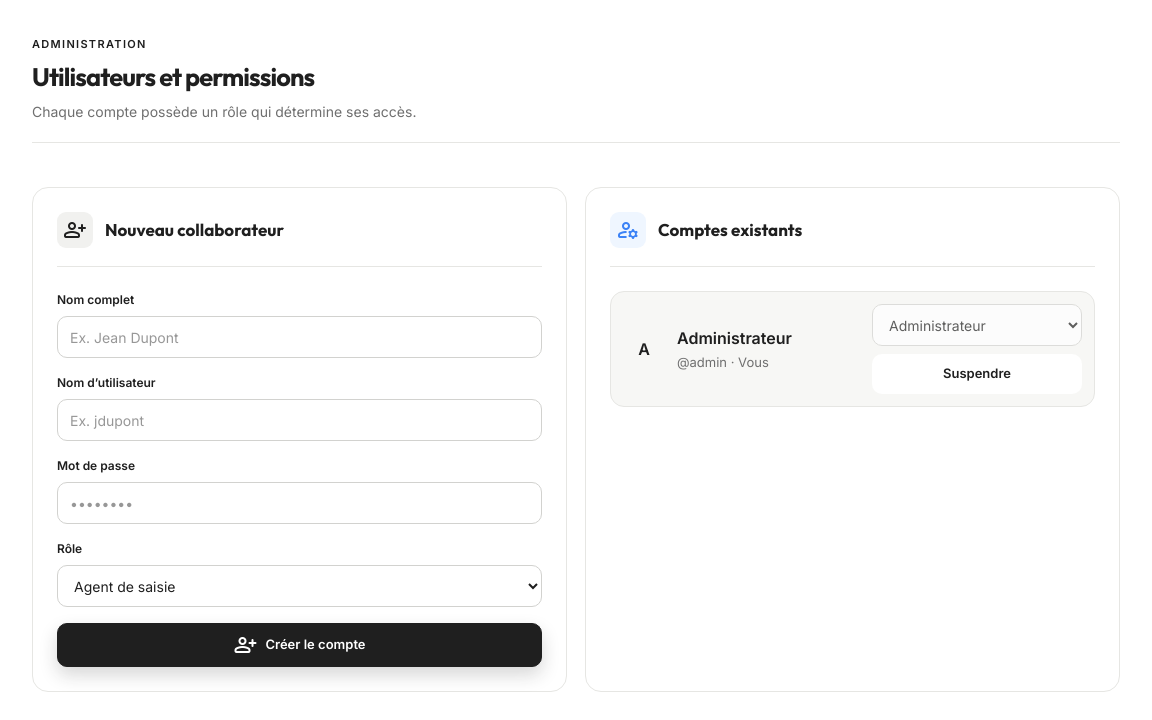
it: UserManagementPage › keeps the account unchanged when suspension is denied
The width and height of the screenshot is (1152, 720).
What coordinates should you click on to do the following:
click the button with aria-label "Suspendre Administrateur"
I would click on:
 (977, 374)
Its box is [872,354,1082,394].
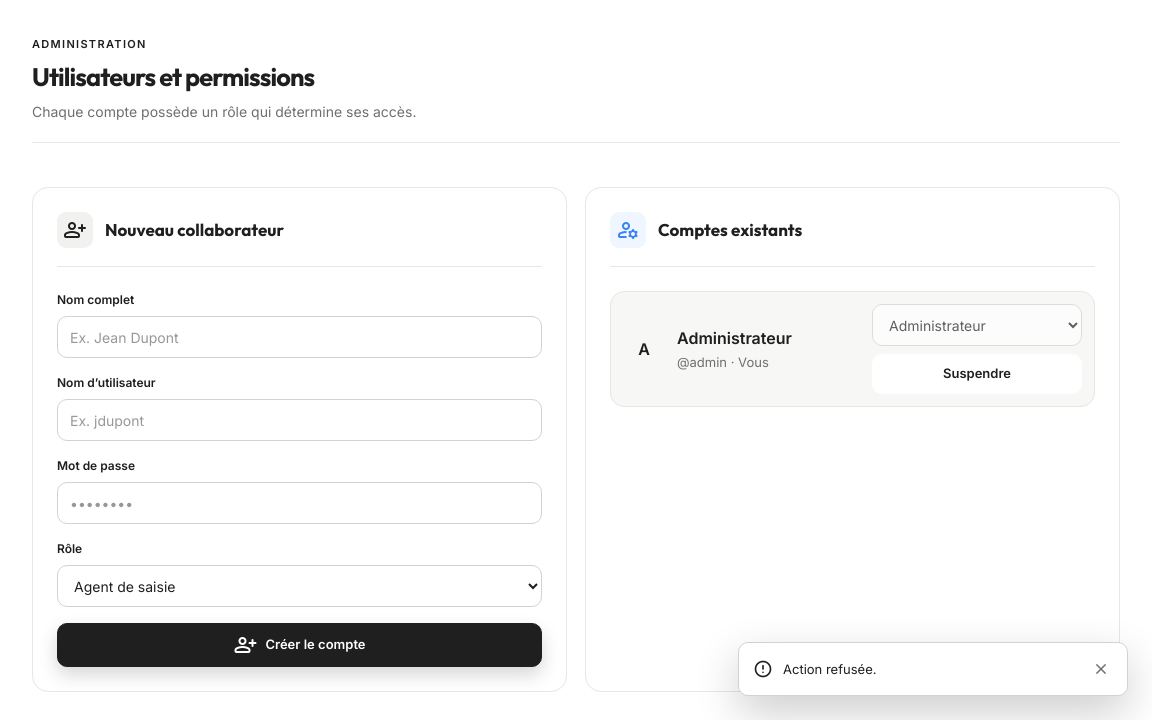
Check: the text "Action refusée." is shown, box [783,661,876,677]
